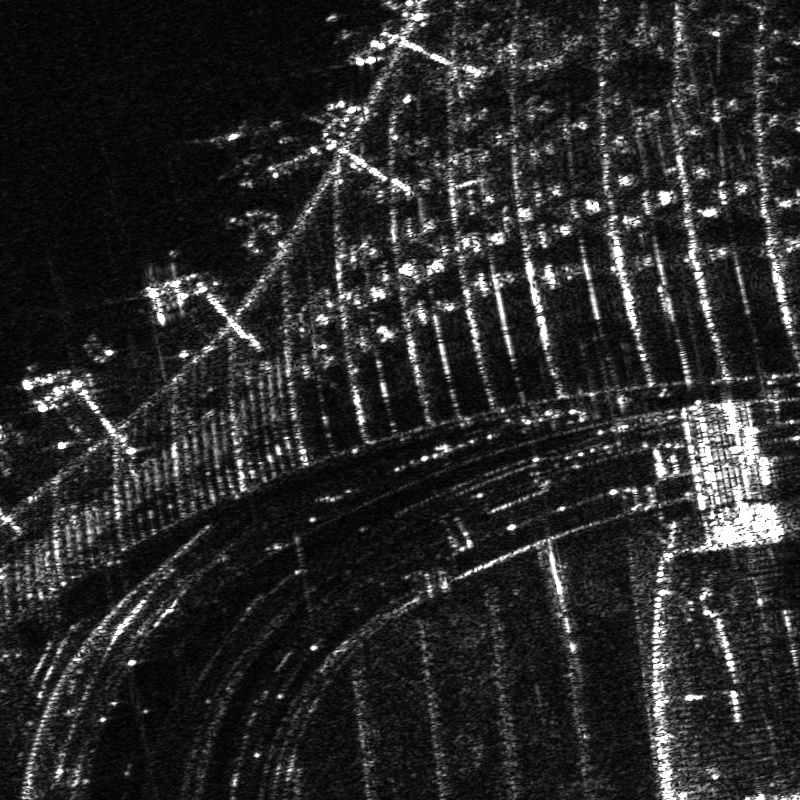A220: (207, 115, 259, 183)
